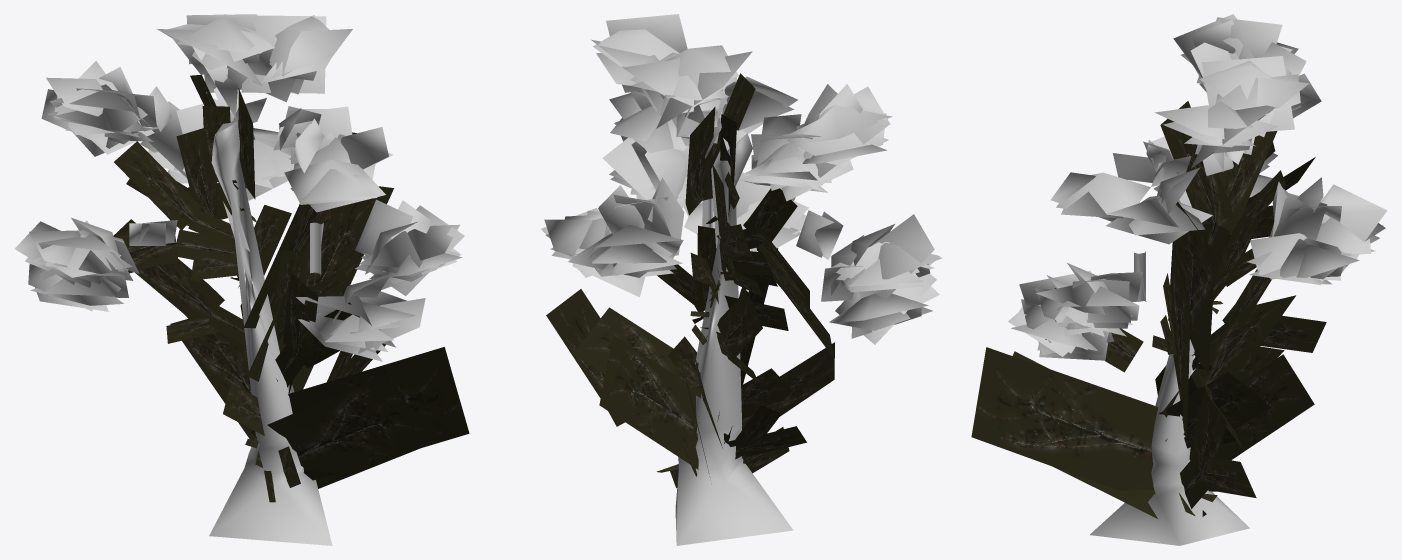
File: Tree8Lod1.FBX
The picture shows the model from 3 angles, left to right: view 1: azimuth 30°, elevation 25°; view 2: azimuth 150°, elevation 25°; view 3: azimuth 270°, elevation 25°; orthographic projection. The views are drawn at different scales.
Visible parts, largest first — view 1: Tree8Lod1; view 2: Tree8Lod1; view 3: Tree8Lod1.
Part boxes in pixels (x1,y1,x2,y2): Tree8Lod1: [15, 14, 469, 545]; Tree8Lod1: [541, 14, 942, 545]; Tree8Lod1: [971, 14, 1387, 545].
Size of the model in its own units: 281 by 324 by 268.
